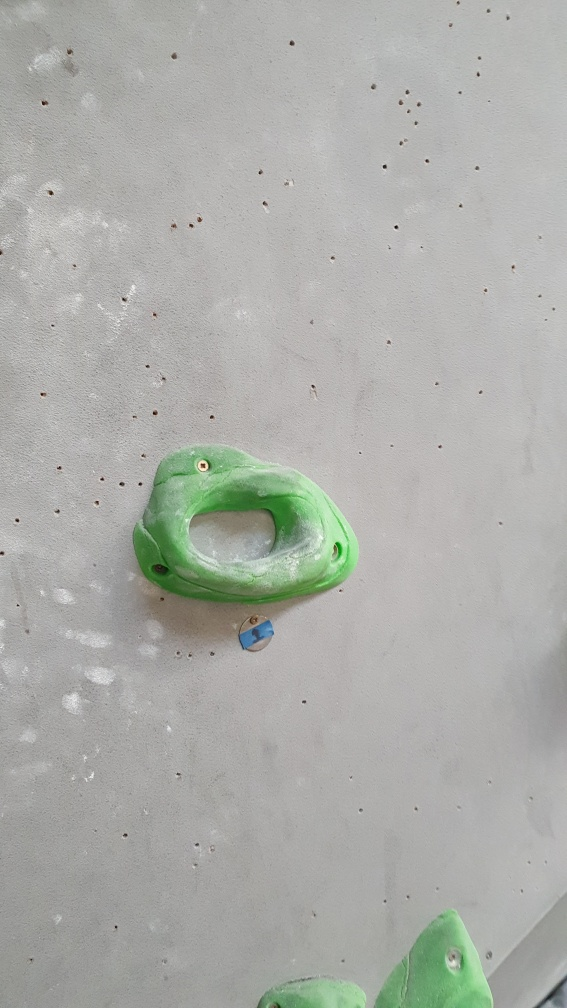Hand Start: (233, 612, 276, 656)
Pocket: (134, 440, 361, 611)
